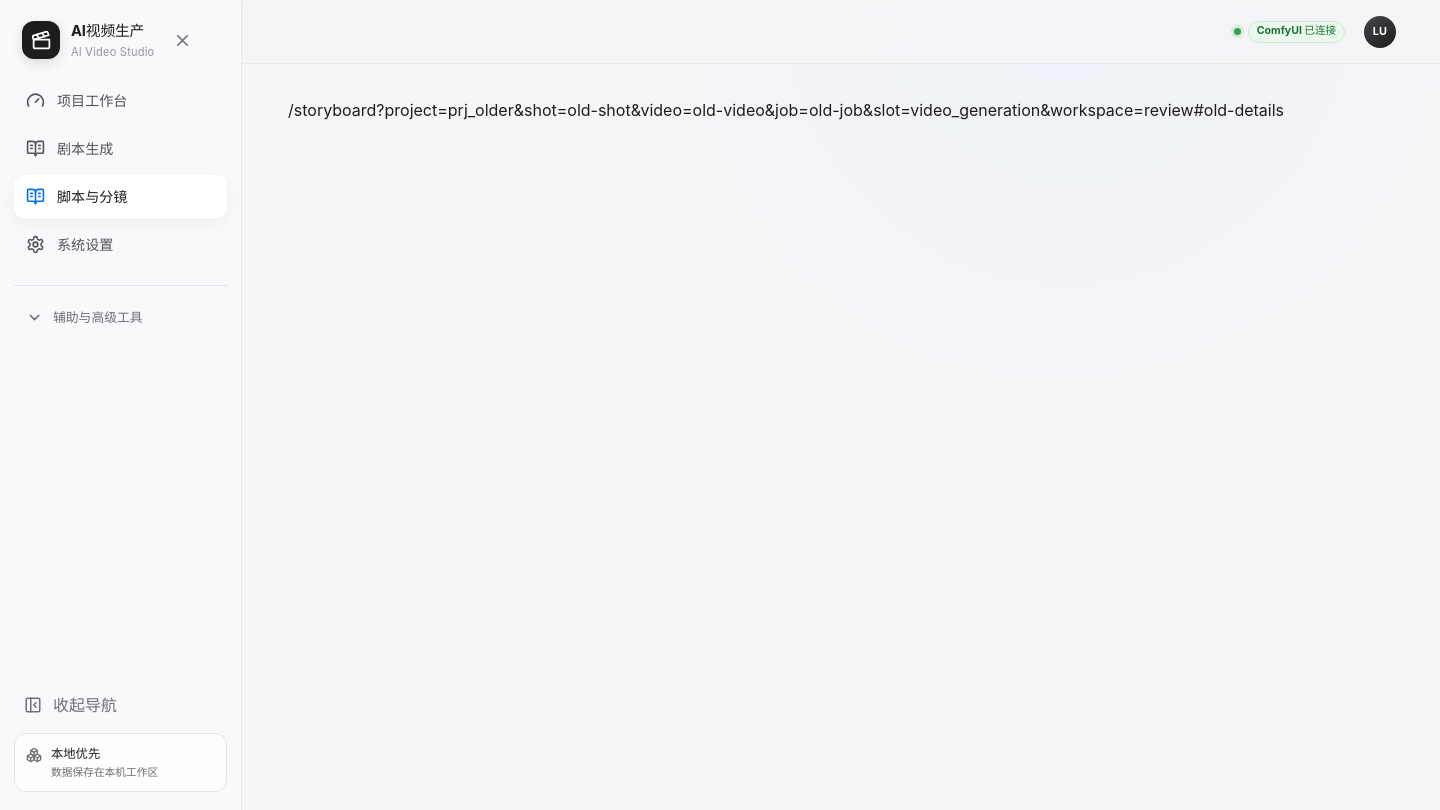
Test: AppShell provider truth labels › keeps the older current project when opening 项目工作台 without carrying another module’s selection
The image size is (1440, 810).
Click the link "项目工作台".
click(77, 101)  # box [26,91,127,110]
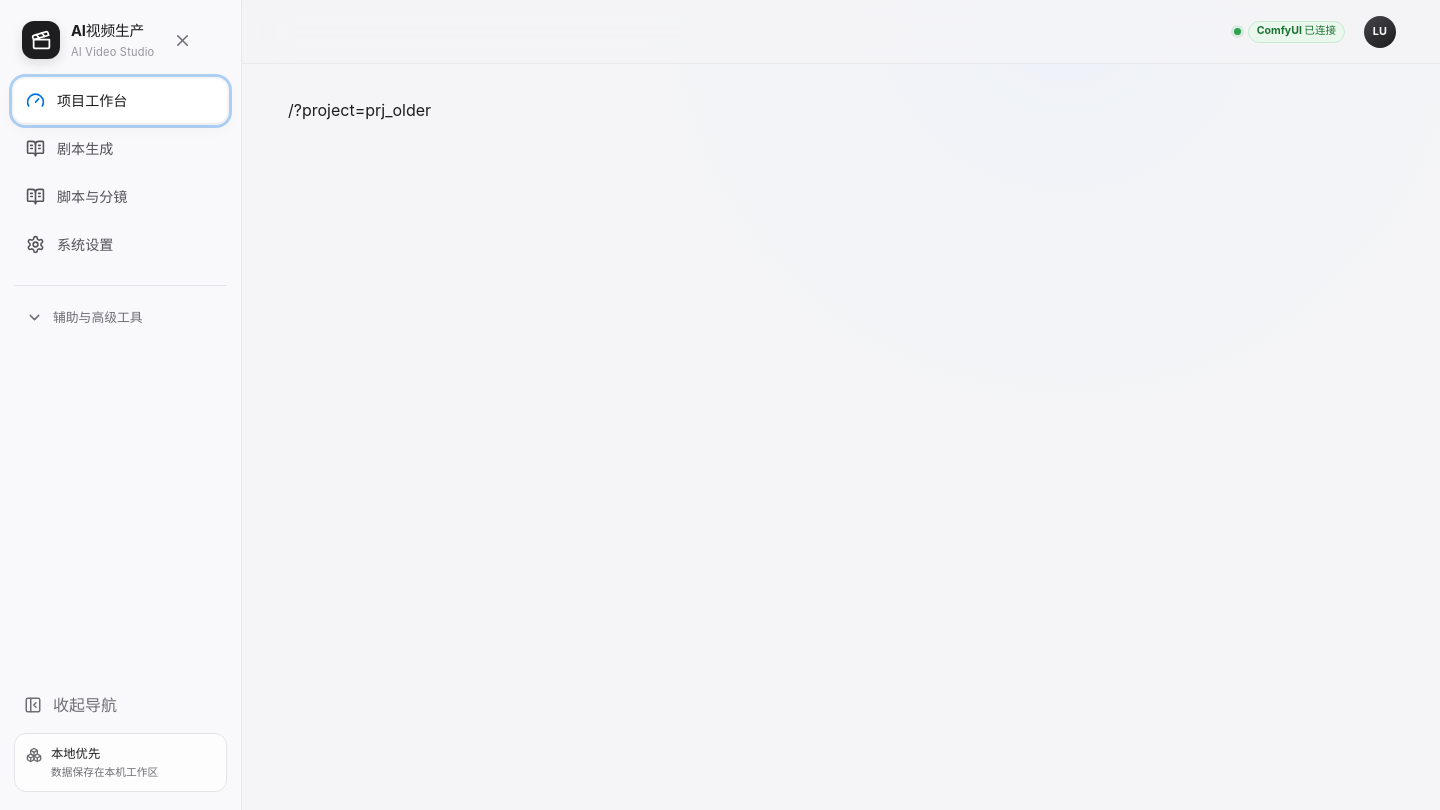
Expected: the text named "当前地址" reads "/?project=prj_older", [294,100,431,120]
